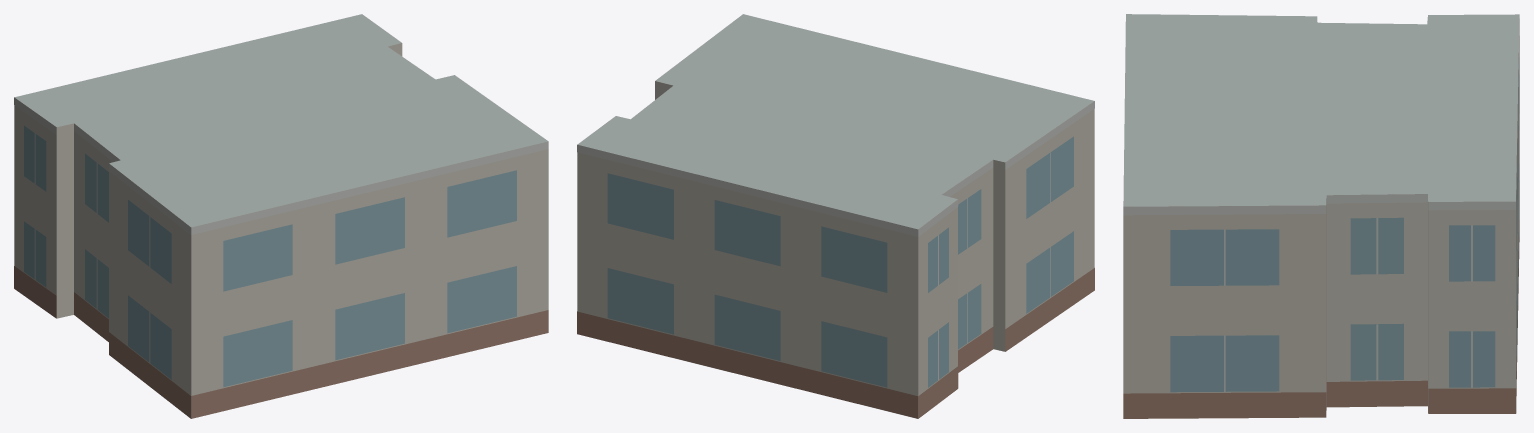
Rendered from survey-upis-32878918.glb.
3 views of the same model, side by side, from view 1: azimuth 30°, elevation 25°; view 2: azimuth 150°, elevation 25°; view 3: azimuth 270°, elevation 25° (orthographic). The views are drawn at different scales.
Visible parts, largest first — view 1: survey-upis-32878918.tmp; view 2: survey-upis-32878918.tmp; view 3: survey-upis-32878918.tmp.
Boxes of the visible parts, x1=… form: survey-upis-32878918.tmp: x1=14, y1=14, x2=548, y2=418; survey-upis-32878918.tmp: x1=577, y1=14, x2=1094, y2=418; survey-upis-32878918.tmp: x1=1123, y1=14, x2=1519, y2=418.
Bounding box in the file's own units: 11.9 × 6.1 × 10.34.
